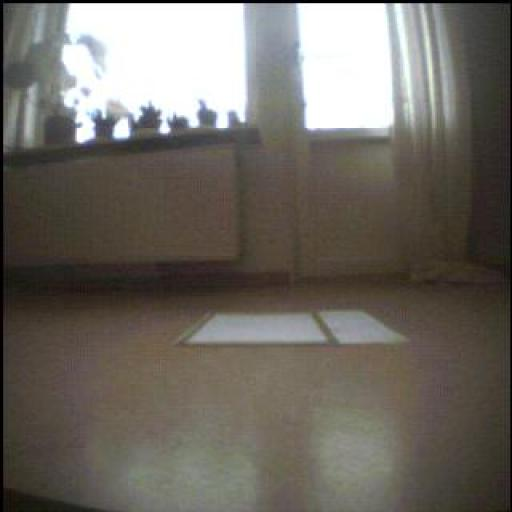Pad: (185, 307, 410, 351)
